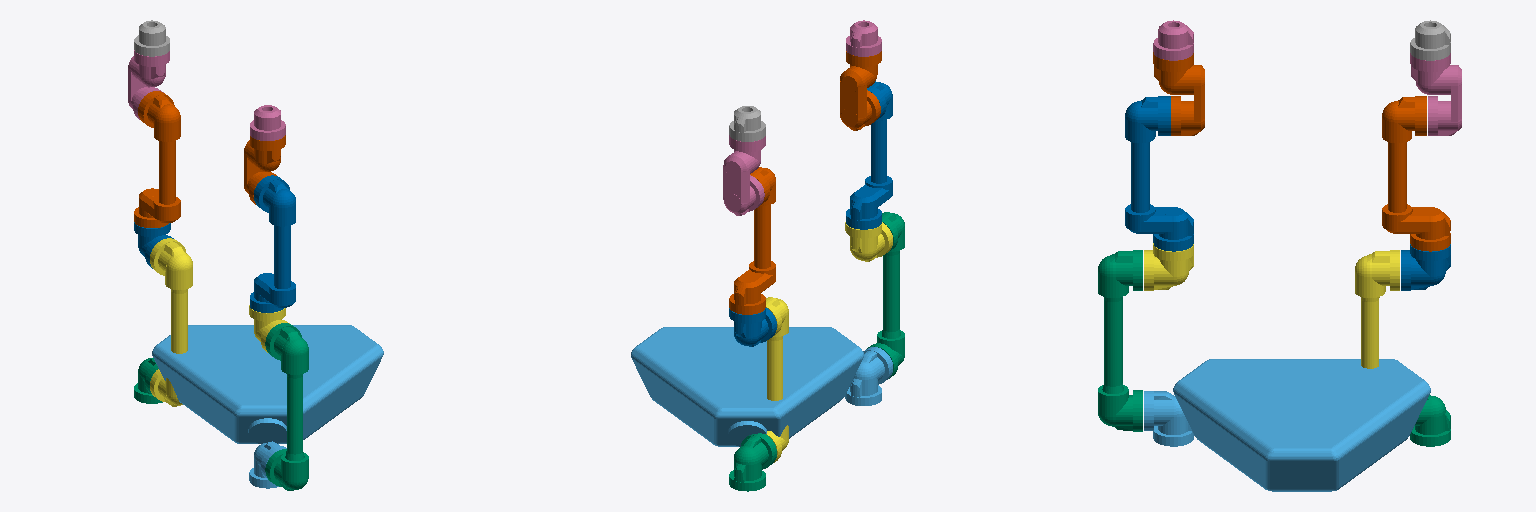
The robot description file, URDF, robot "VISPA":
<?xml version="1.0" ?>

<robot name="VISPA">

  <!-- Standard ROS(-industrial) frames -->
  <!-- inertials not needed here -->
  <link name="world"/>

  <link name="Link_0">
    <visual>
      <geometry>
        <mesh filename="mpc/crawling_vispa_model/meshes/torso.stl"/>
      </geometry>
    </visual>
    <collision>
      <geometry>
        <mesh filename="mpc/crawling_vispa_model/meshes/torso.stl"/>
      </geometry>
    </collision>
    <inertial>
      <mass value="70"/>
      <inertia ixx="0.9917" ixy="0" ixz="0" iyy="2.1583" iyz="0" izz="3.0333"/>
      <origin xyz="0 0 0.0"/>
    </inertial>
  </link>
<!-- leg_a -->
  <link name="Link_1_a">
    <visual>
      <geometry>
        <mesh filename="mpc/crawling_vispa_model/meshes/link1.stl"/>
      </geometry>
    </visual>
    <collision>
      <geometry>
        <mesh filename="mpc/crawling_vispa_model/meshes/link1.stl"/>
      </geometry>impl_f
    </collision>
    <inertial>
      <mass value="2.328"/>
      <inertia ixx="0.012" ixy="0" ixz="0" iyy="0.007" iyz="0.003" izz="0.008"/>
      <origin xyz="0 -0.029 -0.043"/>
    </inertial>
  </link>

  <link name="Link_2_a">
    <visual>
      <geometry>
        <mesh filename="mpc/crawling_vispa_model/meshes/link2_0_5.stl"/>
      </geometry>
    </visual>
    <collision>
      <geometry>
        <mesh filename="mpc/crawling_vispa_model/meshes/link2_0_5.stl"/>
      </geometry>
    </collision>
    <inertial>
      <mass value="3.995"/>
      <inertia ixx="0.010" ixy="0" ixz="0" iyy="0.578" iyz="0" izz="0.574"/>
      <origin xyz="0.25 0 0.142"/>
    </inertial>
  </link>

  <link name="Link_3_a">
    <visual>
      <geometry>
        <mesh filename="mpc/crawling_vispa_model/meshes/link3.stl"/>
      </geometry>
    </visual>
    <collision>
      <geometry>
        <mesh filename="mpc/crawling_vispa_model/meshes/link3.stl"/>
      </geometry>
    </collision>
    <inertial>
      <mass value="2.328"/>
      <inertia ixx="0.012" ixy="0" ixz="0" iyy="0.008" iyz="0.003" izz="0.007"/>
      <origin xyz="0 0.043 0.029"/>
    </inertial>
  </link>

  <link name="Link_4_a">
    <visual>
      <geometry>
        <mesh filename="mpc/crawling_vispa_model/meshes/link4.stl"/>
      </geometry>
    </visual>
    <collision>
      <geometry>
        <mesh filename="mpc/crawling_vispa_model/meshes/link4.stl"/>
      </geometry>
    </collision>
    <inertial>
      <mass value="3.157"/>
      <inertia ixx="0.199" ixy="0" ixz="0" iyy="0.193" iyz="0.01" izz="0.01"/>
      <origin xyz="0 -0.043 -0.210"/>
    </inertial>
  </link>

  <link name="Link_5_a">
    <visual>
      <geometry>
        <mesh filename="mpc/crawling_vispa_model/meshes/link5.stl"/>
      </geometry>
    </visual>
    <collision>
      <geometry>
        <mesh filename="mpc/crawling_vispa_model/meshes/link5.stl"/>
      </geometry>
    </collision>
    <inertial>
      <mass value="2.695"/>
      <inertia ixx="0.029" ixy="0" ixz="0" iyy="0.006" iyz="-0.001" izz="0.027"/>
      <origin xyz="0 0.125 -0.007"/>
    </inertial>
  </link>

  <link name="Link_6_a">
    <visual>
      <geometry>
        <mesh filename="mpc/crawling_vispa_model/meshes/link6.stl"/>
      </geometry>
    </visual>
    <collision>
      <geometry>
        <mesh filename="mpc/crawling_vispa_model/meshes/link6.stl"/>
      </geometry>
    </collision>
    <inertial>
      <mass value="0.924"/>
      <inertia ixx="0.002" ixy="0" ixz="0" iyy="0.002" iyz="0" izz="0.001"/>
      <origin xyz="0 0 0.0"/>
    </inertial>
  </link>

  <link name="tool_a"/>

<!-- leg_b -->
  <link name="Link_1_b">
    <visual>
      <geometry>
        <mesh filename="mpc/crawling_vispa_model/meshes/link1.stl"/>
      </geometry>
    </visual>
    <collision>
      <geometry>
        <mesh filename="mpc/crawling_vispa_model/meshes/link1.stl"/>
      </geometry>
    </collision>
    <inertial>
      <mass value="2.328"/>
      <inertia ixx="0.012" ixy="0" ixz="0" iyy="0.007" iyz="0.003" izz="0.008"/>
      <origin xyz="0 -0.029 -0.043"/>
    </inertial>
  </link>

  <link name="Link_2_b">
    <visual>
      <geometry>
        <mesh filename="mpc/crawling_vispa_model/meshes/link2_0_5.stl"/>
      </geometry>
    </visual>
    <collision>
      <geometry>
        <mesh filename="mpc/crawling_vispa_model/meshes/link2_0_5.stl"/>
      </geometry>
    </collision>
    <inertial>
      <mass value="3.995"/>
      <inertia ixx="0.010" ixy="0" ixz="0" iyy="0.578" iyz="0" izz="0.574"/>
      <origin xyz="0.25 0 0.142"/>
    </inertial>
  </link>

  <link name="Link_3_b">
    <visual>
      <geometry>
        <mesh filename="mpc/crawling_vispa_model/meshes/link3.stl"/>
      </geometry>
    </visual>
    <collision>
      <geometry>
        <mesh filename="mpc/crawling_vispa_model/meshes/link3.stl"/>
      </geometry>
    </collision>
    <inertial>
      <mass value="2.328"/>
      <inertia ixx="0.012" ixy="0" ixz="0" iyy="0.008" iyz="0.003" izz="0.007"/>
      <origin xyz="0 0.043 0.029"/>
    </inertial>
  </link>

  <link name="Link_4_b">
    <visual>
      <geometry>
        <mesh filename="mpc/crawling_vispa_model/meshes/link4.stl"/>
      </geometry>
    </visual>
    <collision>
      <geometry>
        <mesh filename="mpc/crawling_vispa_model/meshes/link4.stl"/>
      </geometry>
    </collision>
    <inertial>
      <mass value="3.157"/>
      <inertia ixx="0.199" ixy="0" ixz="0" iyy="0.193" iyz="0.01" izz="0.01"/>
      <origin xyz="0 -0.043 -0.210"/>
    </inertial>
  </link>

  <link name="Link_5_b">
    <visual>
      <geometry>
        <mesh filename="mpc/crawling_vispa_model/meshes/link5.stl"/>
      </geometry>
    </visual>
    <collision>
      <geometry>
        <mesh filename="mpc/crawling_vispa_model/meshes/link5.stl"/>
      </geometry>
    </collision>
    <inertial>
      <mass value="2.695"/>
      <inertia ixx="0.029" ixy="0" ixz="0" iyy="0.006" iyz="-0.001" izz="0.027"/>
      <origin xyz="0 0.125 -0.007"/>
    </inertial>
  </link>

  <link name="Link_6_b">
    <visual>
      <geometry>
        <mesh filename="mpc/crawling_vispa_model/meshes/link6.stl"/>
      </geometry>
    </visual>
    <collision>
      <geometry>
        <mesh filename="mpc/crawling_vispa_model/meshes/link6.stl"/>
      </geometry>
    </collision>
    <inertial>
      <mass value="0.924"/>
      <inertia ixx="0.002" ixy="0" ixz="0" iyy="0.002" iyz="0" izz="0.001"/>
      <origin xyz="0 0 0.0"/>
    </inertial>
  </link>

  <link name="tool_b"/>

<!-- joint torso -->
  <joint name="world-link0" type="fixed">
    <parent link="world"/>
    <child link="Link_0"/>
    <!-- <origin xyz="0 0 0" rpy="0 0 ${2*C_1_DEGREE}"/> -->
  </joint>

<!-- leg_a -->
  <joint name="Joint_1_a" type="fixed">
    <parent link="Link_0"/>
    <child link="Link_1_a"/>
    <axis xyz="0 0 1"/>
    <limit effort="50" lower="-3.14149265359" upper="3.14149265359" velocity="0.09395689"/>
    <origin xyz="-0.240  0.41469 -0.064498" rpy="0 0 0"/>
  </joint>

  <joint name="Joint_2_a" type="revolute">
    <parent link="Link_1_a"/>
    <child link="Link_2_a"/>
    <axis xyz="0 0 1"/>
    <limit effort="50" lower="-3.14149265359" upper="3.14149265359" velocity="0.09395689"/>
    <origin xyz="0 0 0" rpy="1.57079632679 -1.57079632679 0"/>
  </joint>

  <joint name="Joint_3_a" type="revolute">
    <parent link="Link_2_a"/>
    <child link="Link_3_a"/>
    <axis xyz="0 0 1"/>
    <limit effort="50" lower="-3.14149265359" upper="3.14149265359" velocity="0.09395689"/>
    <origin xyz="0.5 0 0" rpy="0 0 -1.57079632679"/>
  </joint>

  <joint name="Joint_4_a" type="fixed">
    <parent link="Link_3_a"/>
    <child link="Link_4_a"/>
    <axis xyz="0 0 1"/>
    <limit effort="50" lower="-3.14149265359" upper="3.14149265359" velocity="0.09395689"/>
    <origin xyz="0 0.65 0" rpy="-1.57079632679 0 0"/>
  </joint>

  <joint name="Joint_5_a" type="revolute">
    <parent link="Link_4_a"/>
    <child link="Link_5_a"/>
    <axis xyz="0 0 1"/>
    <limit effort="50" lower="-3.14149265359" upper="3.14149265359" velocity="0.09395689"/>
    <origin xyz="0 0 -0.1" rpy="1.57079632679 0 0"/>
  </joint>

  <joint name="Joint_6_a" type="fixed">
    <parent link="Link_5_a"/>
    <child link="Link_6_a"/>
    <axis xyz="0 0 1"/>
    <limit effort="50" lower="-3.14149265359" upper="3.14149265359" velocity="0.09395689"/>
    <origin xyz="0 0.325 0" rpy="-1.57079632679 0 0"/>
  </joint>
  <joint name="joint_6-tool_a" type="fixed">
    <origin rpy="0 0 0" xyz="0 0 0"/>
    <parent link="Link_6_a"/>
    <child link="tool_a"/>
  </joint>

<!-- leg_b -->
  <joint name="Joint_1_b" type="fixed">
    <parent link="Link_0"/>
    <child link="Link_1_b"/>
    <axis xyz="0 0 1"/>
    <limit effort="50" lower="-3.14149265359" upper="3.14149265359" velocity="0.09395689"/>
    <origin xyz="-0.240  -0.41469 -0.064498" rpy="0 0 0 "/>
  </joint>

  <joint name="Joint_2_b" type="revolute">
    <parent link="Link_1_b"/>
    <child link="Link_2_b"/>
    <axis xyz="0 0 -1"/>
    <limit effort="50" lower="-3.14149265359" upper="3.14149265359" velocity="0.09395689"/>
    <origin xyz="0 0 0" rpy="1.57079632679 -1.57079632679 0"/>
  </joint>

  <joint name="Joint_3_b" type="revolute">
    <parent link="Link_2_b"/>
    <child link="Link_3_b"/>
    <axis xyz="0 0 1"/>
    <limit effort="50" lower="-3.14149265359" upper="3.14149265359" velocity="0.09395689"/>
    <origin xyz="0.5 0 0" rpy="0 0 -1.57079632679"/>
  </joint>

  <joint name="Joint_4_b" type="fixed">
    <parent link="Link_3_b"/>
    <child link="Link_4_b"/>
    <axis xyz="0 0 1"/>
    <limit effort="50" lower="-3.14149265359" upper="3.14149265359" velocity="0.09395689"/>
    <origin xyz="0 0.65 0" rpy="-1.57079632679 0 0"/>
  </joint>

  <joint name="Joint_5_b" type="revolute">
    <parent link="Link_4_b"/>
    <child link="Link_5_b"/>
    <axis xyz="0 0 1"/>
    <limit effort="50" lower="-3.14149265359" upper="3.14149265359" velocity="0.09395689"/>
    <origin xyz="0 0 -0.1" rpy="1.57079632679 0 0"/>
  </joint>

  <joint name="Joint_6_b" type="fixed">
    <parent link="Link_5_b"/>
    <child link="Link_6_b"/>
    <axis xyz="0 0 1"/>
    <limit effort="50" lower="-3.14149265359" upper="3.14149265359" velocity="0.09395689"/>
    <origin xyz="0 0.325 0" rpy="-1.57079632679 0 0"/>
  </joint>
  <joint name="joint_6-tool_b" type="fixed">
    <origin rpy="0 0 0" xyz="0 0 0"/>
    <parent link="Link_6_b"/>
    <child link="tool_b"/>
  </joint>

</robot>

--- What the picture shows (computed from the rendered views, not written in the file) ---
The picture shows the robot from 3 angles, left to right: view 1: azimuth 30°, elevation 25°; view 2: azimuth 150°, elevation 25°; view 3: azimuth 270°, elevation 25°; orthographic projection.
Model VISPA with 16 links and 15 joints (6 revolute, 9 fixed), rooted at world, posed every joint at zero.
Links seen in each view (by area): view 1: Link_0, Link_2_b, Link_4_a, Link_4_b, Link_2_a, Link_5_a, Link_5_b, Link_6_b, Link_6_a, Link_1_b, Link_1_a, Link_3_a (+1 smaller); view 2: Link_0, Link_4_a, Link_4_b, Link_2_b, Link_5_a, Link_5_b, Link_1_a, Link_2_a, Link_1_b, Link_3_a, Link_3_b, Link_6_a (+1 smaller); view 3: Link_0, Link_4_b, Link_4_a, Link_2_b, Link_2_a, Link_5_b, Link_5_a, Link_1_b, Link_3_b, Link_3_a, Link_1_a, Link_6_a (+1 smaller).
Boxes of the visible links, left/top/right/bottom form: Link_0: left=152, top=325, right=383, bottom=443; Link_2_b: left=265, top=323, right=308, bottom=490; Link_4_a: left=134, top=91, right=180, bottom=227; Link_4_b: left=250, top=175, right=295, bottom=312; Link_2_a: left=150, top=238, right=192, bottom=406; Link_5_a: left=128, top=50, right=169, bottom=119; Link_5_b: left=244, top=135, right=285, bottom=204; Link_6_b: left=250, top=105, right=285, bottom=140; Link_6_a: left=134, top=20, right=169, bottom=56; Link_1_b: left=249, top=441, right=286, bottom=488; Link_1_a: left=134, top=358, right=162, bottom=403; Link_3_a: left=134, top=222, right=173, bottom=268; Link_0: left=631, top=327, right=863, bottom=446; Link_4_a: left=729, top=167, right=775, bottom=314; Link_4_b: left=846, top=81, right=892, bottom=229; Link_2_b: left=867, top=212, right=904, bottom=378; Link_5_a: left=723, top=135, right=765, bottom=215; Link_5_b: left=840, top=51, right=881, bottom=130; Link_1_a: left=729, top=433, right=776, bottom=491; Link_2_a: left=766, top=297, right=788, bottom=462; Link_1_b: left=845, top=347, right=892, bottom=405; Link_3_a: left=729, top=308, right=776, bottom=346; Link_3_b: left=845, top=222, right=892, bottom=261; Link_6_a: left=729, top=106, right=765, bottom=141; Link_0: left=1173, top=359, right=1430, bottom=491; Link_4_b: left=1125, top=96, right=1193, bottom=251; Link_4_a: left=1382, top=96, right=1450, bottom=251; Link_2_b: left=1098, top=250, right=1142, bottom=431; Link_2_a: left=1355, top=250, right=1399, bottom=368; Link_5_b: left=1153, top=52, right=1204, bottom=135; Link_5_a: left=1410, top=53, right=1461, bottom=135; Link_1_b: left=1144, top=391, right=1193, bottom=446; Link_3_b: left=1144, top=243, right=1193, bottom=290; Link_3_a: left=1401, top=244, right=1450, bottom=290; Link_1_a: left=1410, top=395, right=1450, bottom=446; Link_6_a: left=1410, top=20, right=1450, bottom=60.
Bounding box of the posed robot: 0.7272 × 1.18 × 1.47 m (x, y, z).
Meshes: 7 distinct files referenced, 13 mesh visuals loaded (7 binary STL).
